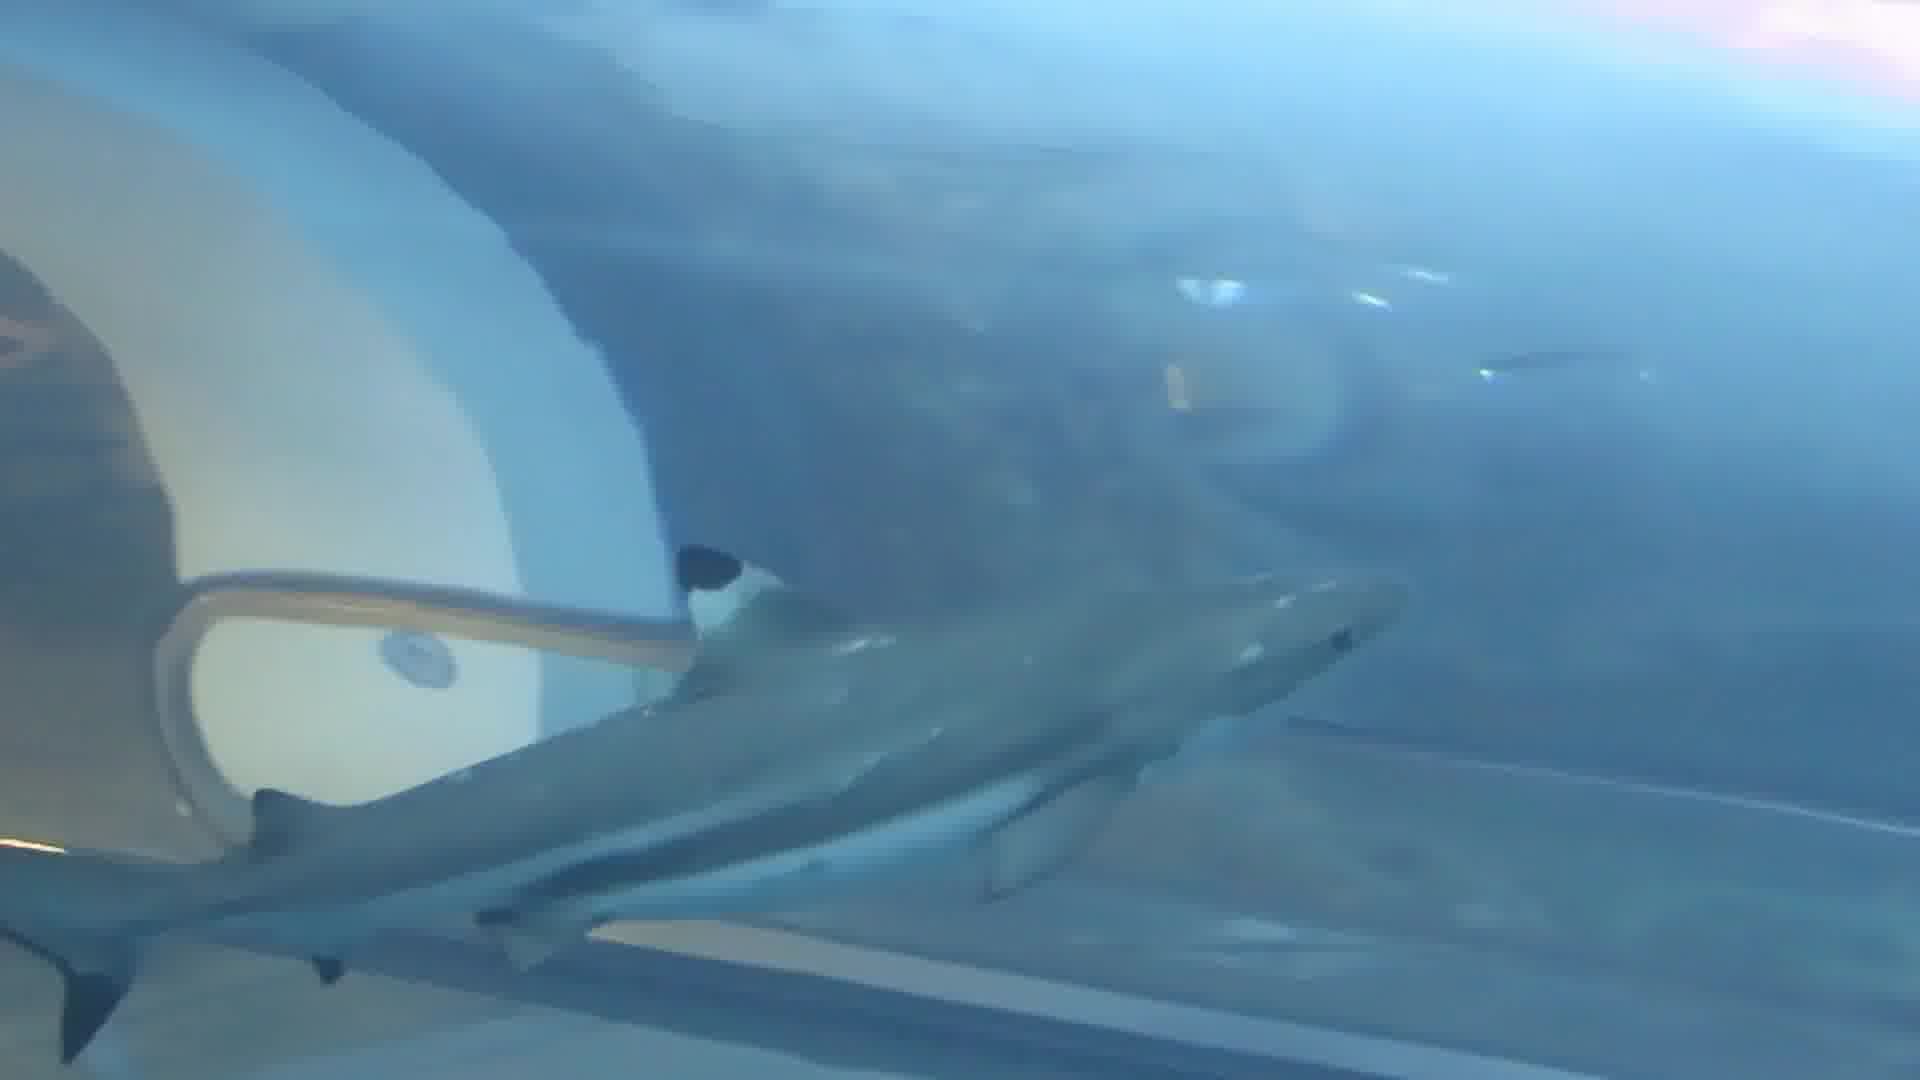Carcharhinus melanopterus: (1, 539, 1445, 1031)
